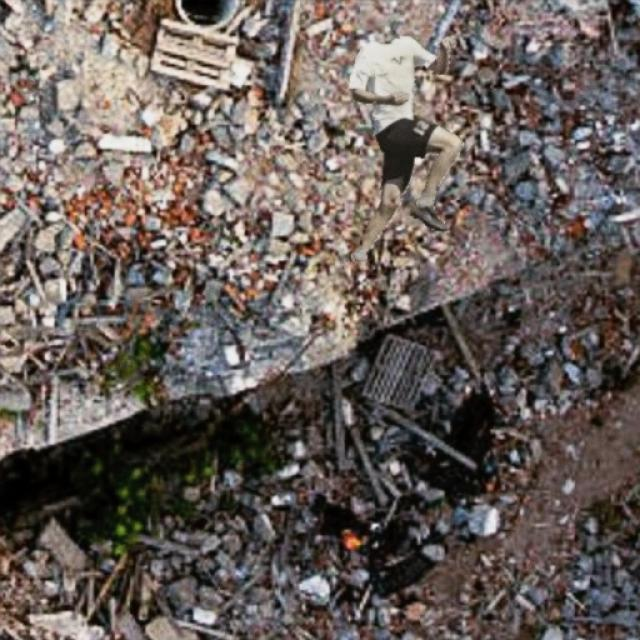Person in Rubble: (347, 36, 462, 260)
